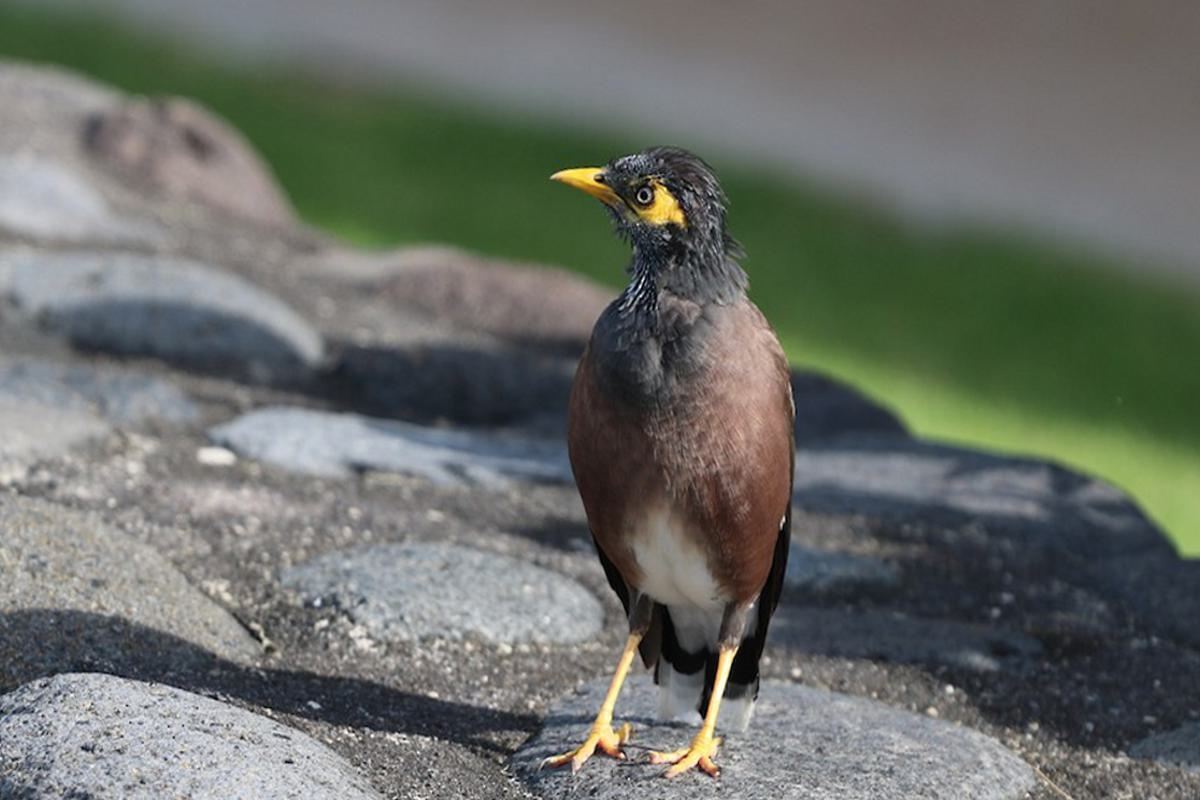myna: (506, 128, 816, 757)
